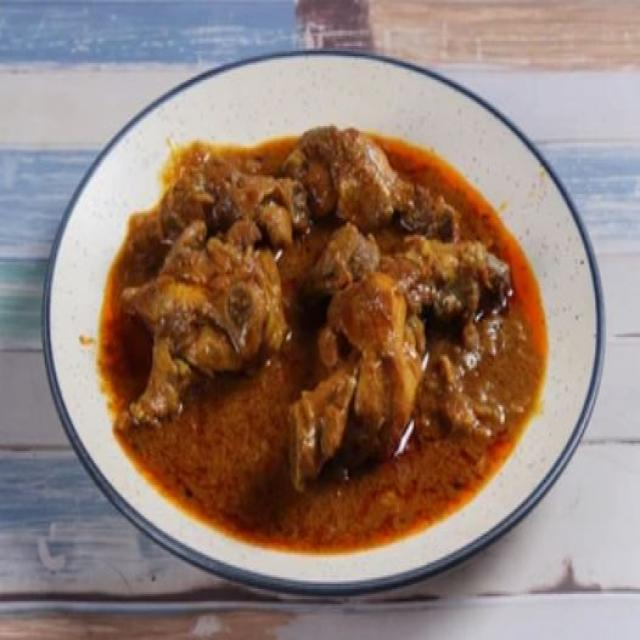kamouniya: (69, 67, 588, 556)
